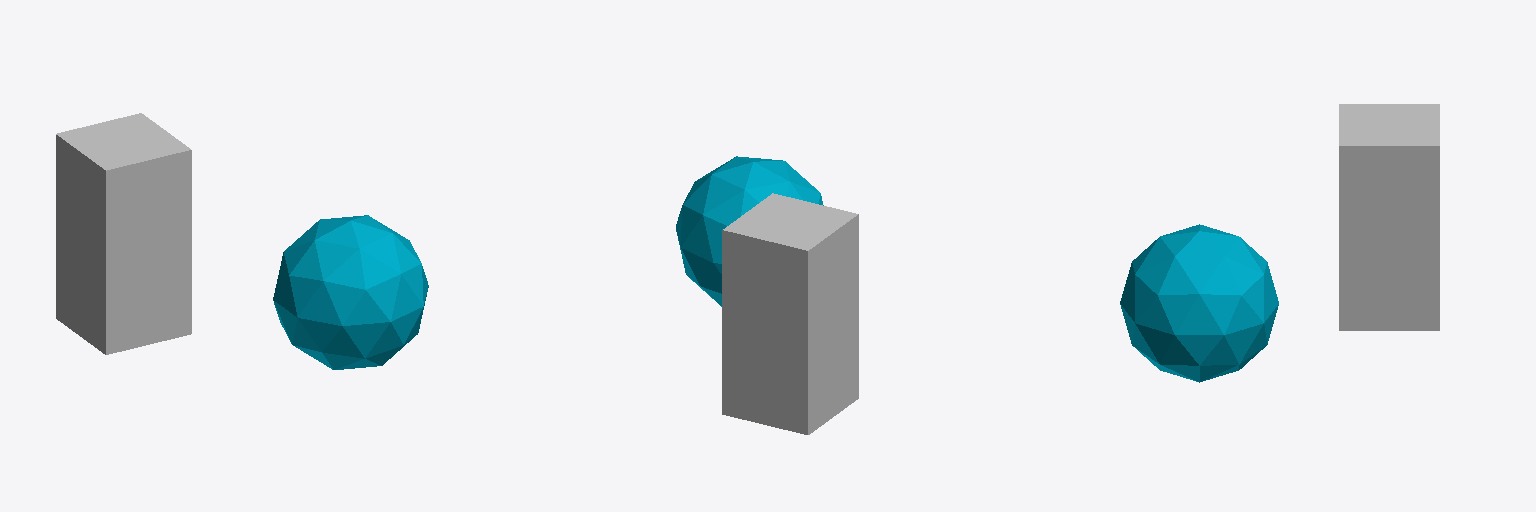
File: cube_isosphere_materials.obj
3 renders of one model, left to right at view 1: azimuth 30°, elevation 25°; view 2: azimuth 150°, elevation 25°; view 3: azimuth 270°, elevation 25°, orthographic.
Parts seen in each view (by area): view 1: Cube, Icosphere; view 2: Cube, Icosphere; view 3: Cube, Icosphere.
Boxes of the visible parts, x1=… form: Cube: x1=56, y1=113, x2=191, y2=354; Icosphere: x1=273, y1=215, x2=428, y2=369; Cube: x1=722, y1=193, x2=858, y2=434; Icosphere: x1=676, y1=156, x2=823, y2=306; Cube: x1=1339, y1=104, x2=1439, y2=330; Icosphere: x1=1120, y1=224, x2=1278, y2=382.
Bounding box in the file's own units: 3.49 × 2.57 × 4.02.